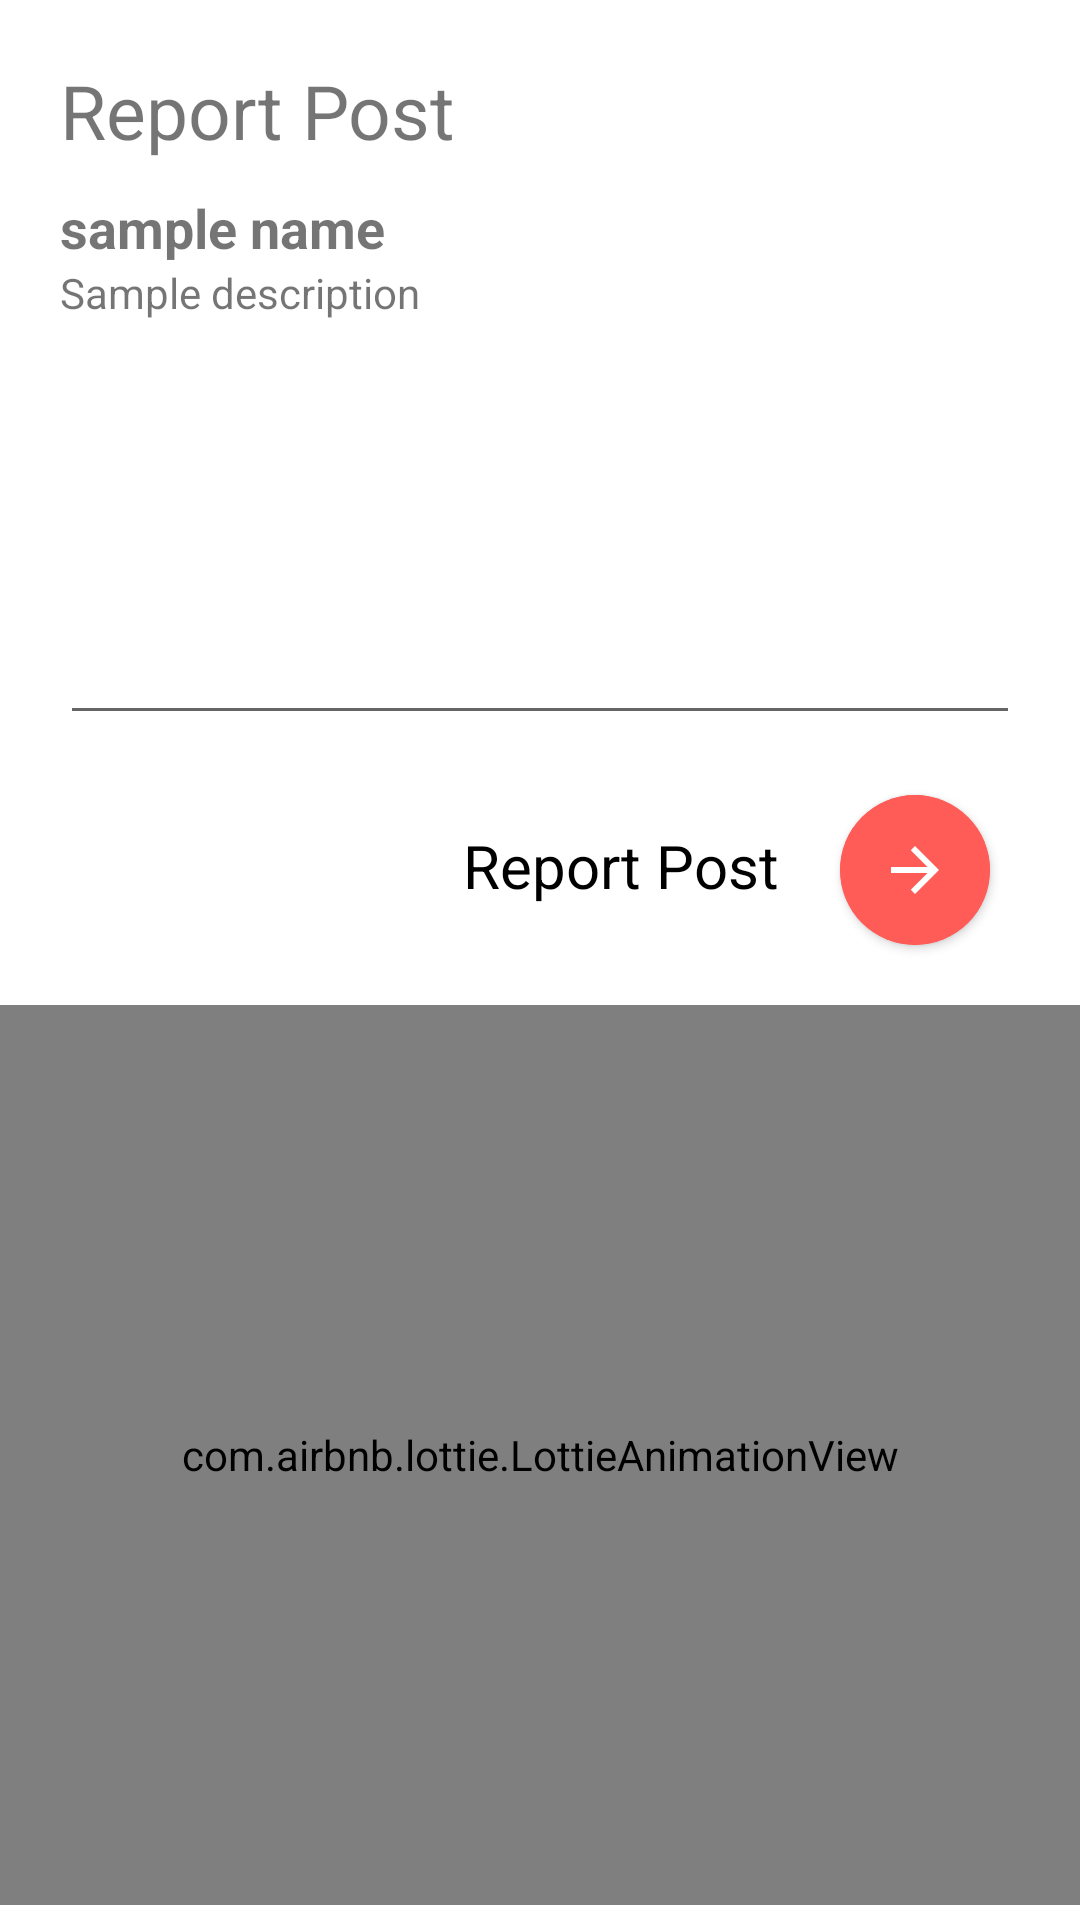

Locate icon controls on the screen. Image size 1080px x 1920px, boxes as {"x1": x1, "y1": y1, "x2": x2, "y2": y2}.
arrow: {"x1": 840, "y1": 795, "x2": 990, "y2": 945}
